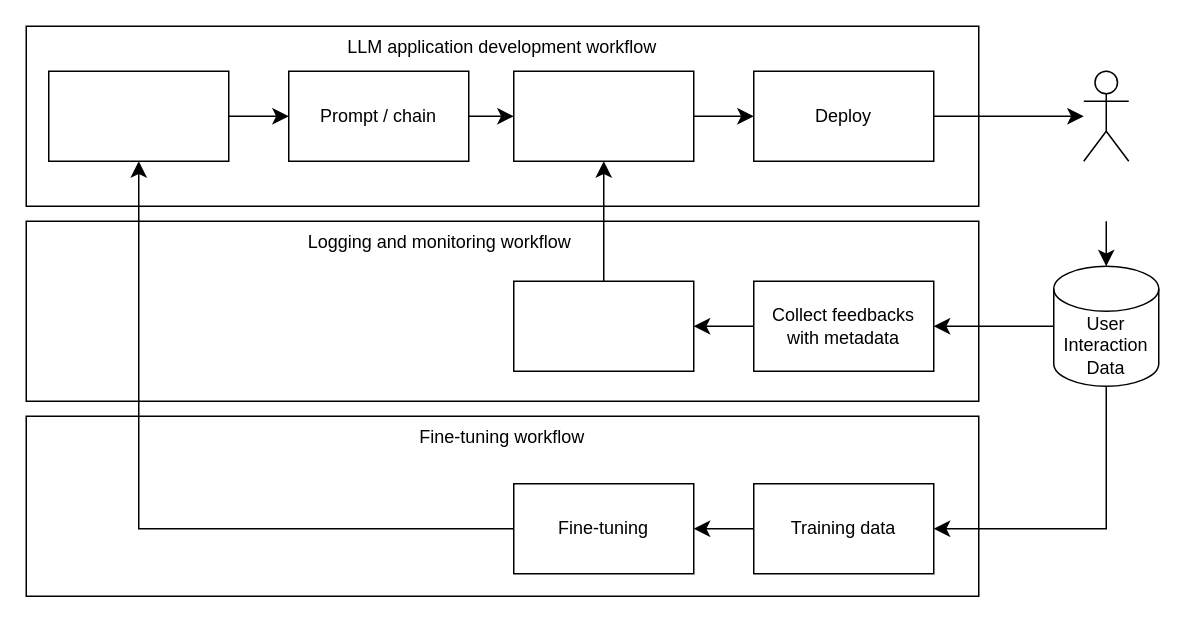
Some shapes in this 1185 by 623 pixel diagram are drawn without their labels. The shapes that lost their labels are listed below. From the top down, each one's centre as x and y in pixels, then its label:
At (138,115): "LLM".
At (603,115): "Test".
At (1105,115): "User Feedback".
At (603,325): "Evaluation data".
